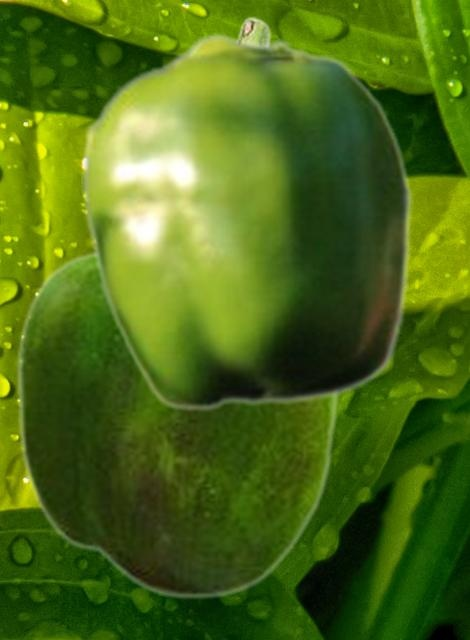bell_pepper: (81, 32, 412, 411), (15, 246, 343, 600)
